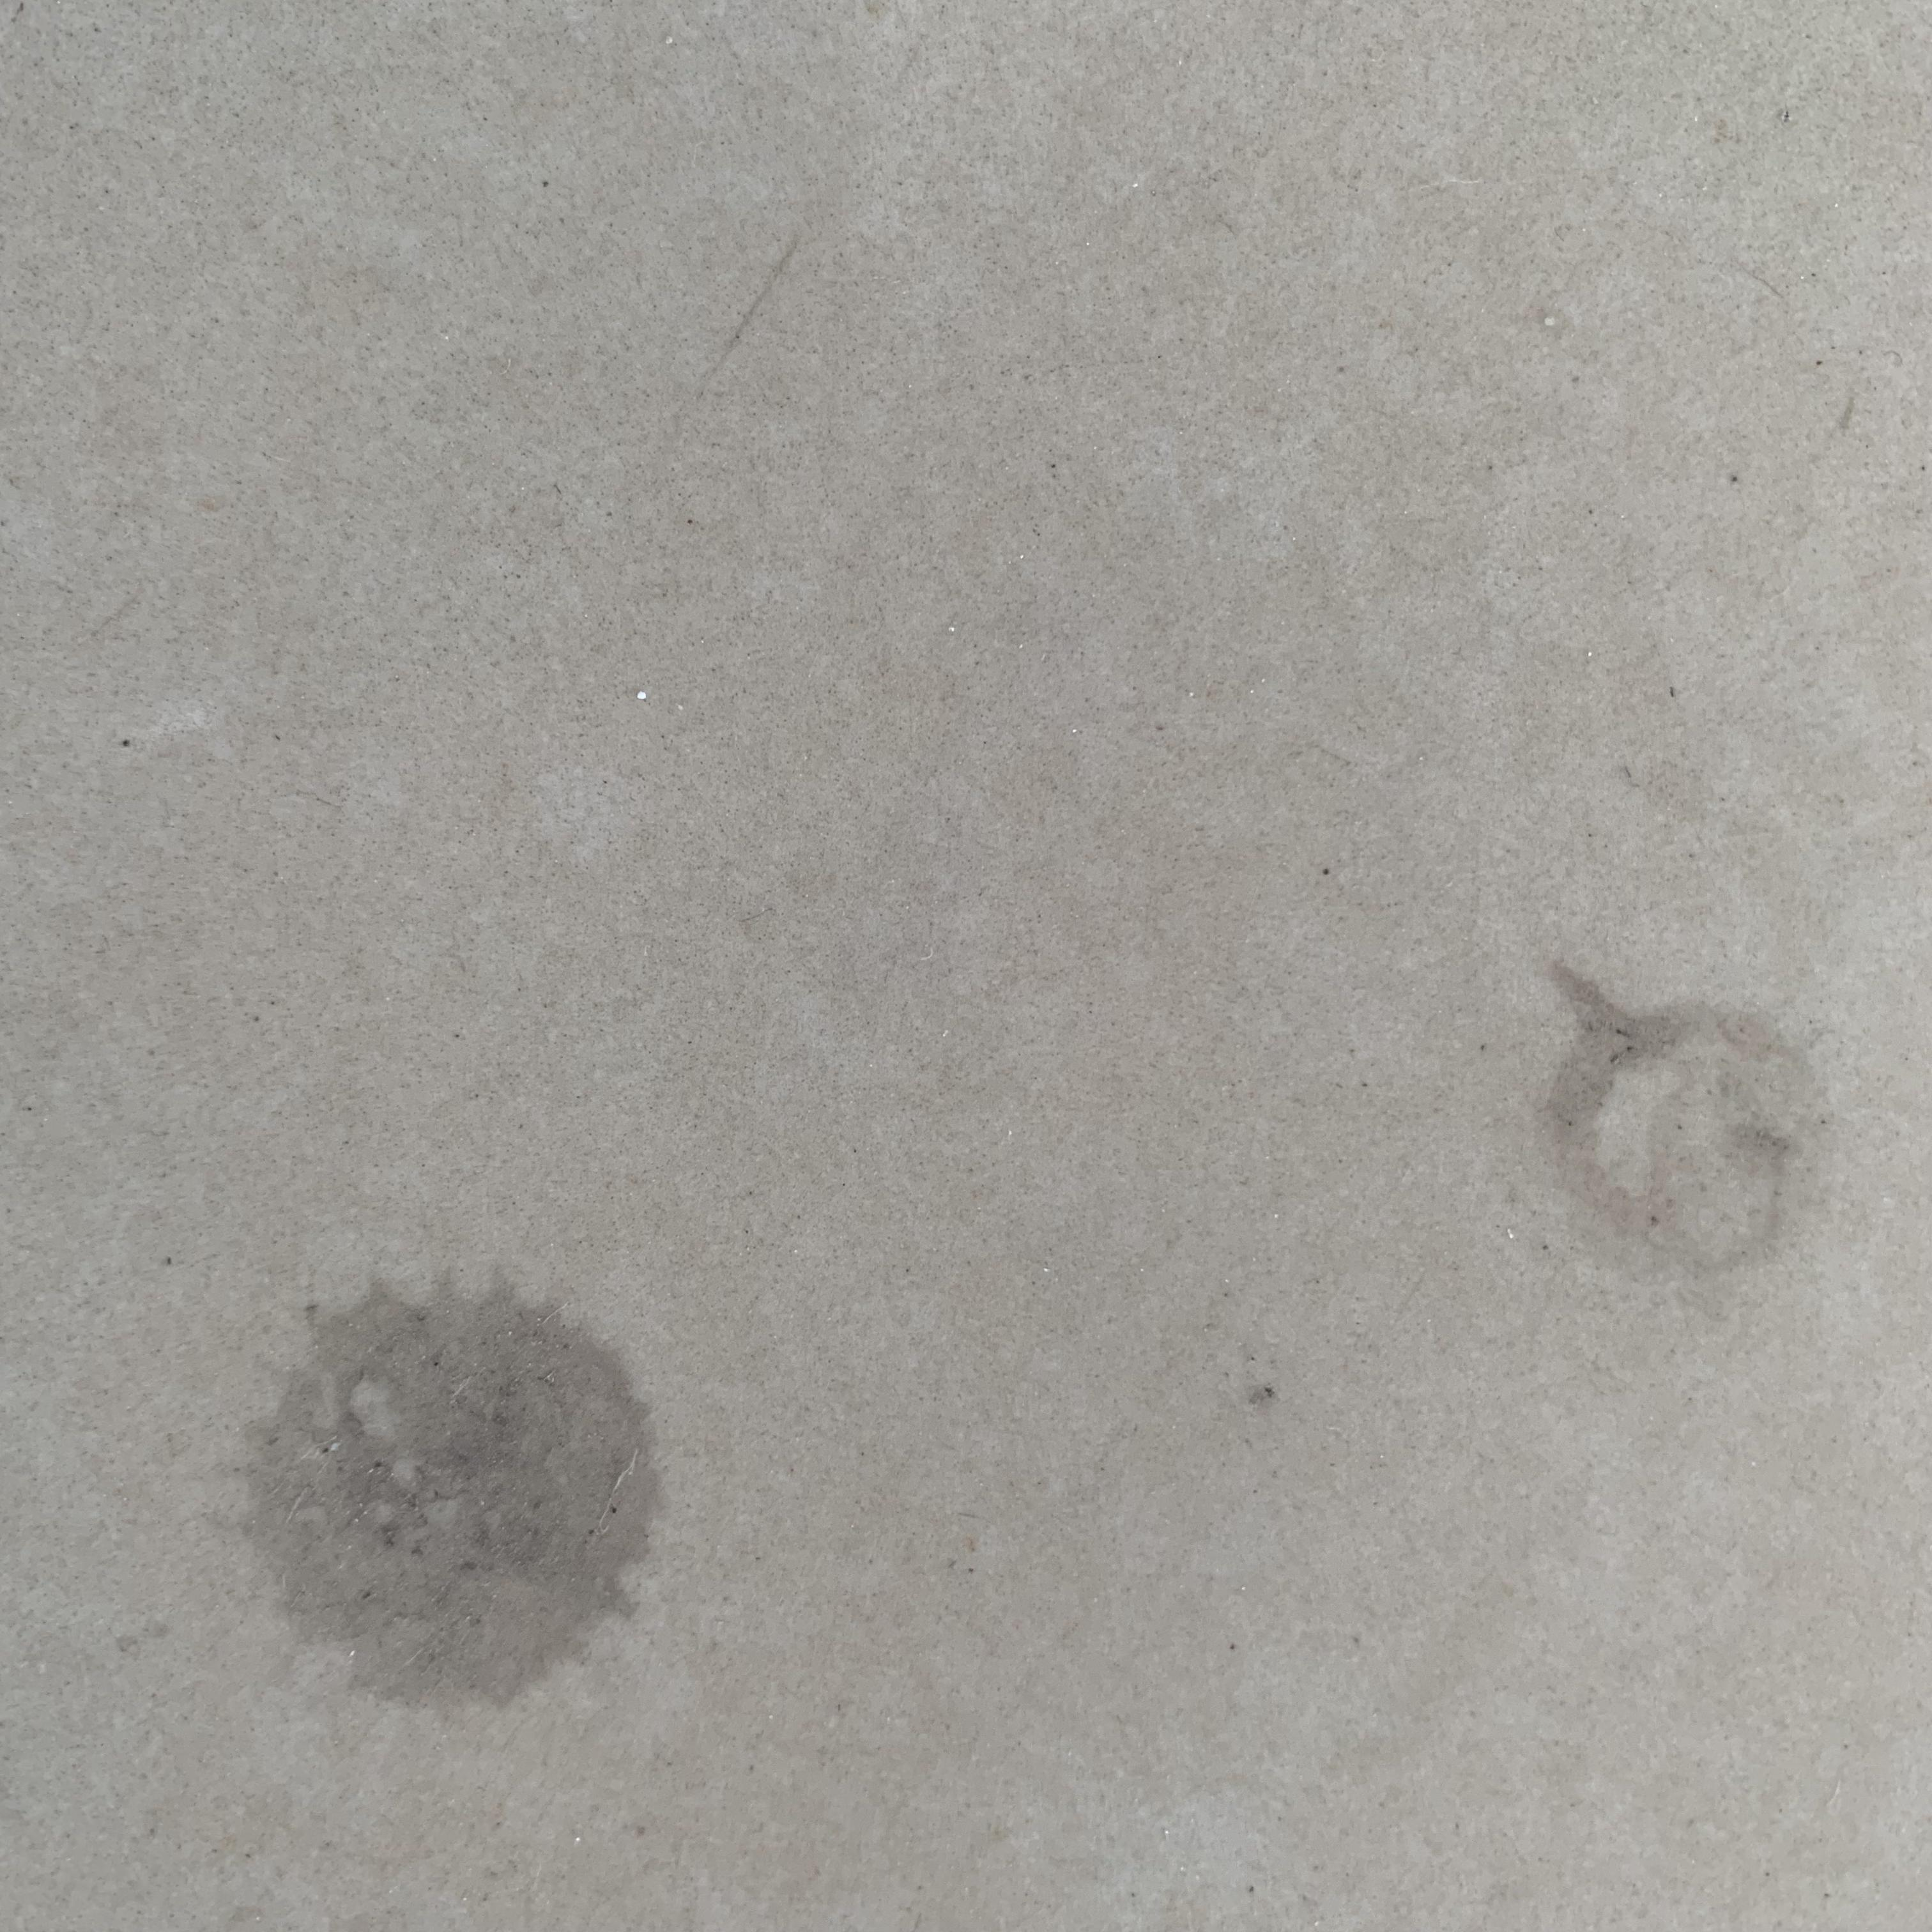grey spot: (228, 1281, 655, 1721), (1548, 962, 1845, 1302)
